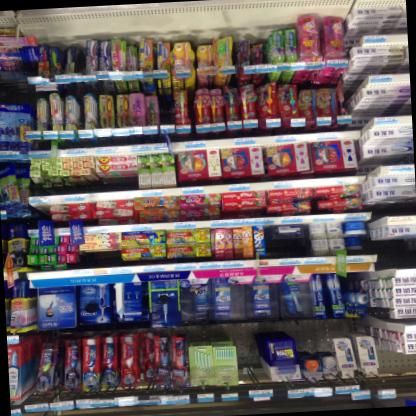empty_space: (242, 338, 261, 394)
